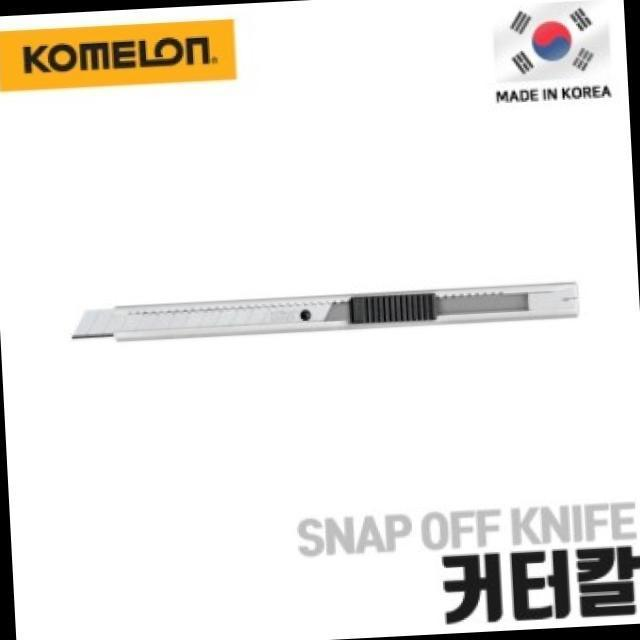cutter: (64, 272, 596, 352)
